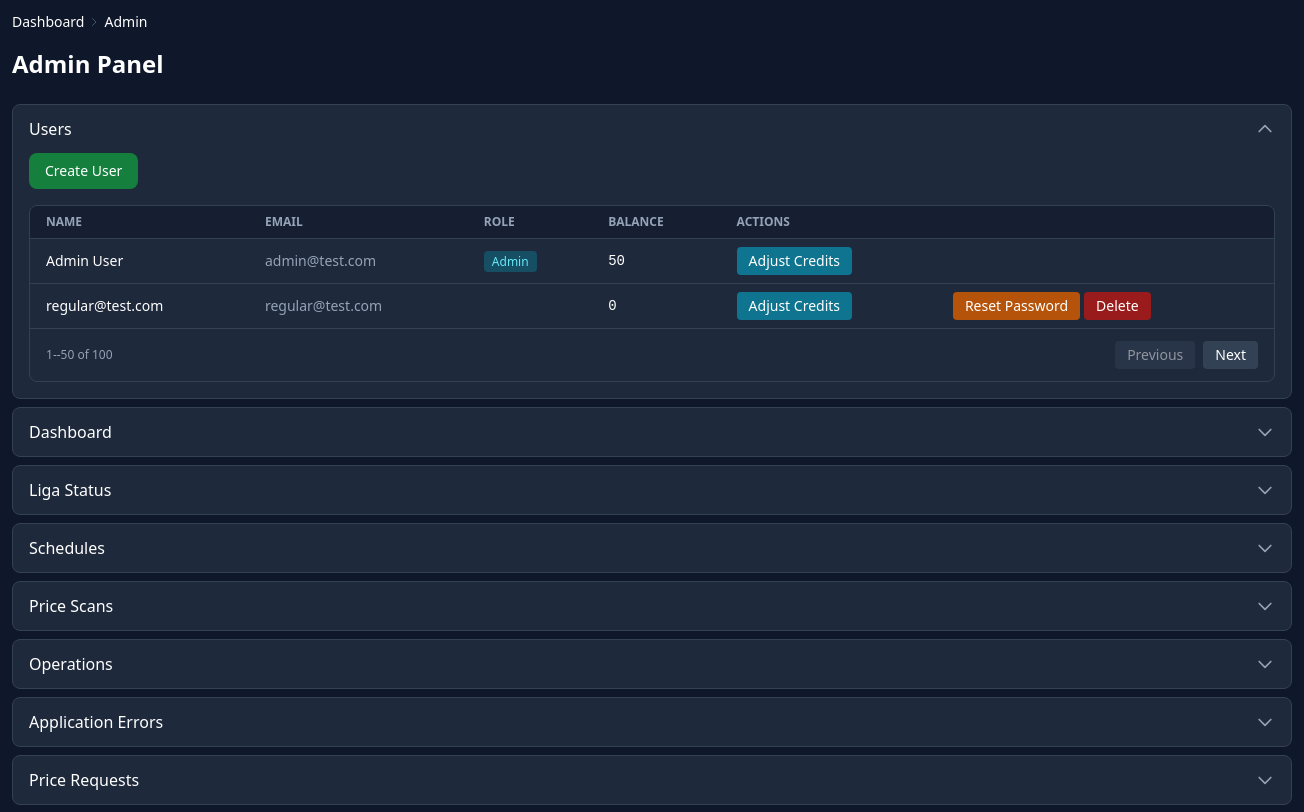
Scenario: AdminPanel › pagination buttons update offset
Check: the table with test id "users-table" is shown, box [30,206,1274,328]
Check: the button with test id "users-prev" is disabled, box [1115,341,1195,369]
Click the button with test id "users-next".
click(1231, 355)  # box [1203,341,1258,369]
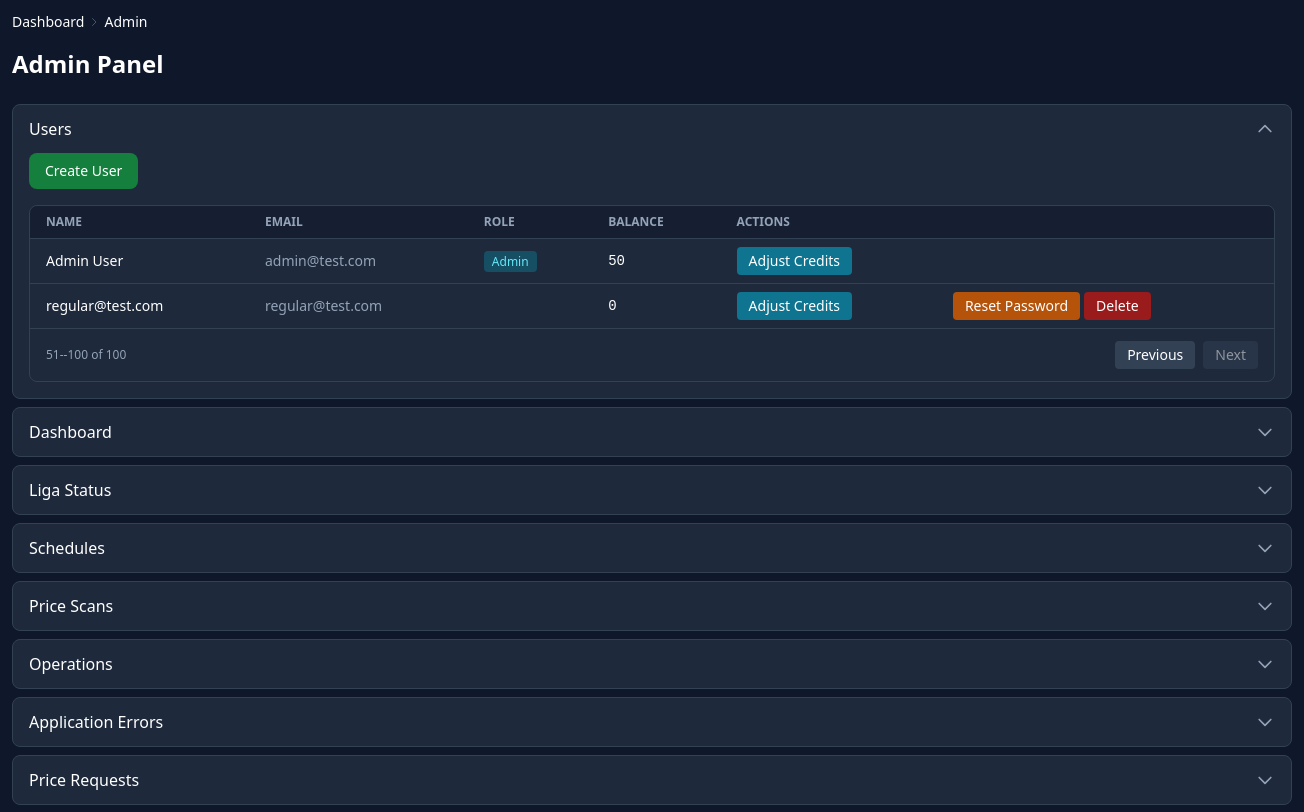
Check: the button with test id "users-prev" is enabled, box [1115,341,1195,369]
